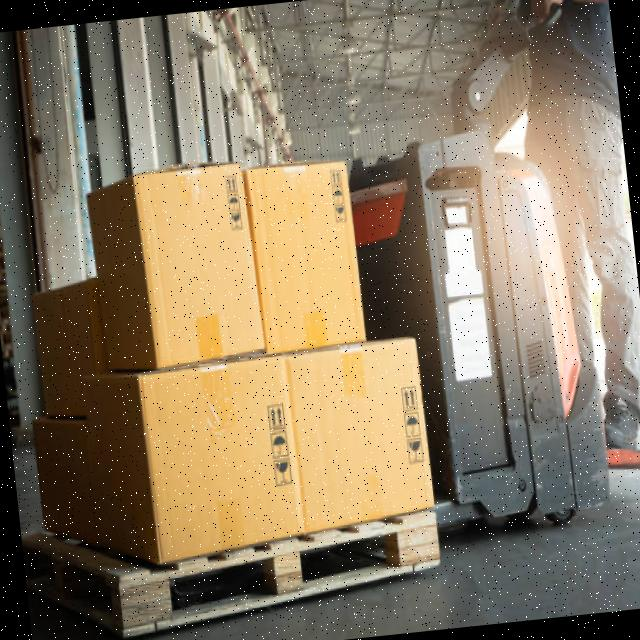Wooden-Pallets: (20, 509, 446, 640)
